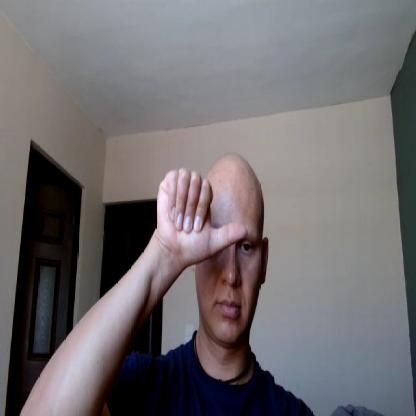A: (156, 168, 246, 264)
